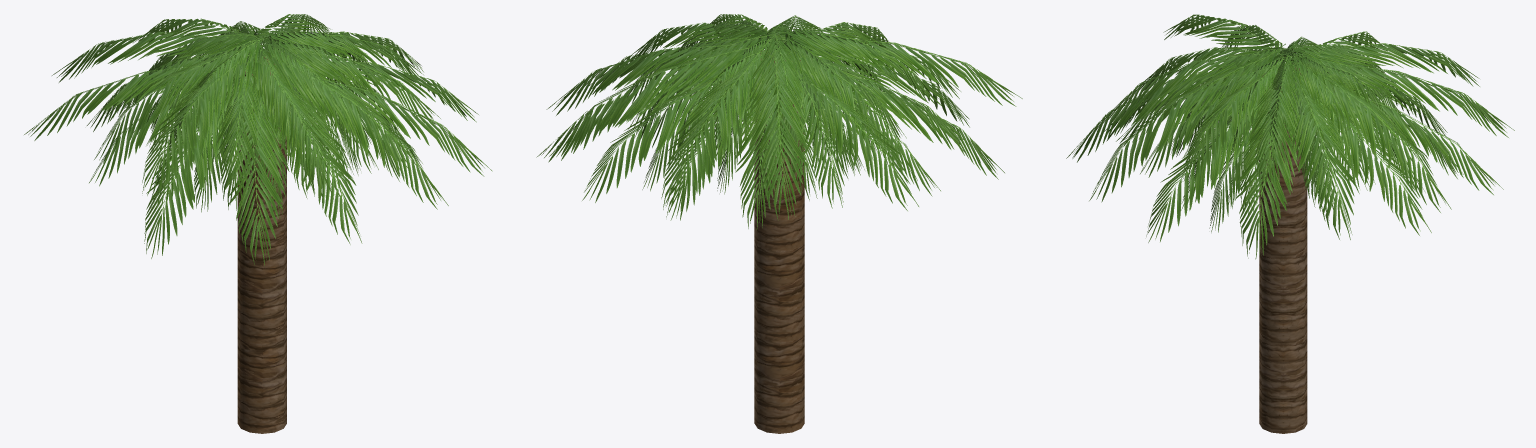
Rendered from Palmboom test.fbx.
3 renders of one model, left to right at view 1: azimuth 30°, elevation 25°; view 2: azimuth 150°, elevation 25°; view 3: azimuth 270°, elevation 25°, orthographic. The views are drawn at different scales.
Parts seen in each view (by area): view 1: Plane_7, Cylinder_1, Cylinder, Plane_10, Plane_49, Plane_3, Plane_42, Plane_12, Plane_5, Plane_8, Plane_13, Plane_46 (+28 smaller); view 2: Plane_8, Plane_1, Cylinder_1, Cylinder, Plane_9, Plane_46, Plane_47, Cylinder_2, Plane_7, Plane_2, Plane_13, Plane_6 (+26 smaller); view 3: Cylinder_1, Cylinder, Plane_2, Plane_10, Plane_9, Plane_48, Plane_41, Cylinder_2, Plane_11, Plane_40, Plane_1, Plane_4 (+28 smaller).
Boxes of the visible parts, box(x1,y1,x2,y2) form: Plane_7: box(142, 41, 268, 195); Cylinder_1: box(237, 245, 286, 344); Cylinder: box(237, 334, 286, 433); Plane_10: box(251, 45, 448, 209); Plane_49: box(222, 81, 283, 265); Plane_3: box(249, 48, 362, 244); Plane_42: box(144, 90, 246, 258); Plane_12: box(252, 59, 334, 202); Plane_5: box(216, 58, 263, 210); Plane_8: box(52, 31, 271, 82); Plane_13: box(94, 43, 260, 163); Plane_46: box(24, 66, 207, 140); Plane_8: box(747, 34, 808, 220); Plane_1: box(661, 38, 780, 212); Cylinder_1: box(754, 241, 804, 342); Cylinder: box(754, 332, 804, 433); Plane_9: box(549, 40, 786, 160); Plane_46: box(786, 75, 918, 210); Plane_47: box(582, 65, 755, 202); Cylinder_2: box(754, 150, 804, 251); Plane_7: box(769, 37, 1022, 106); Plane_2: box(546, 45, 779, 115); Plane_13: box(776, 39, 917, 183); Plane_6: box(776, 43, 845, 208); Cylinder_1: box(1259, 250, 1307, 347); Cylinder: box(1259, 337, 1307, 433); Plane_2: box(1276, 71, 1356, 239); Plane_10: box(1089, 48, 1285, 202); Plane_9: box(1283, 53, 1451, 212); Plane_48: box(1235, 102, 1300, 259); Plane_41: box(1146, 98, 1278, 242); Cylinder_2: box(1259, 166, 1307, 259); Plane_11: box(1250, 56, 1306, 191); Plane_40: box(1303, 95, 1431, 235); Plane_1: box(1282, 61, 1514, 137); Plane_4: box(1182, 61, 1292, 183).
Bounding box in the file's own units: 1068 × 981 × 1086.
61 materials, 61 textured.
